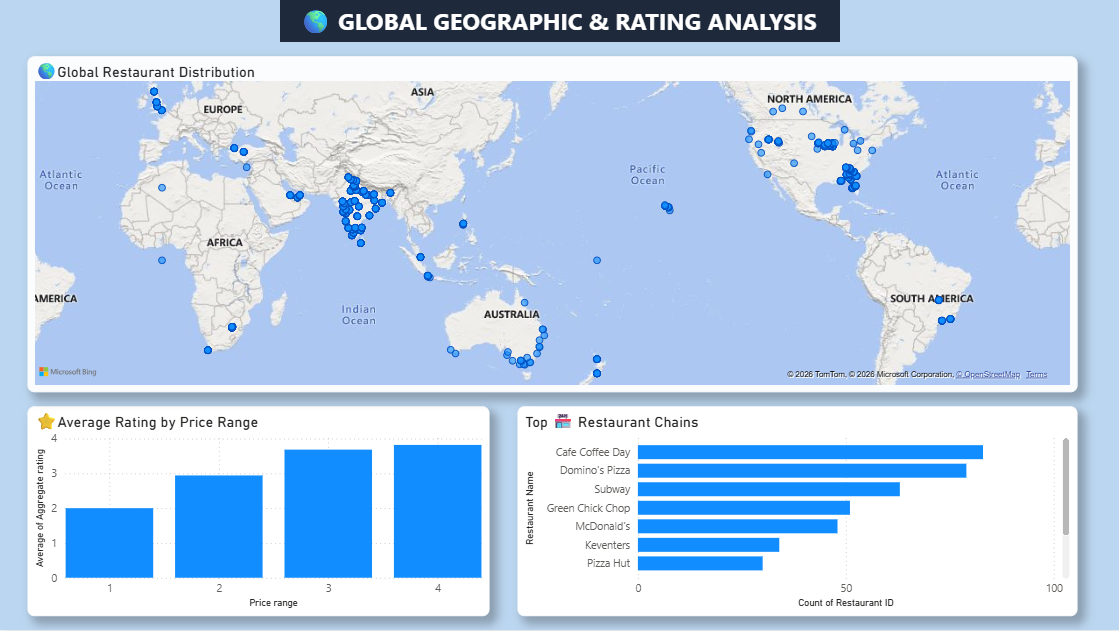

The dashboard page shown, as its layout file describes it:
{"tool":"powerbi","page":{"name":"Geographic & Ratings Analysis","canvas":[1280,720],"ordinal":1},"visuals":[{"type":"clusteredColumnChart","title":"⭐Average Rating by Price Range","fields":{"Category":["Dataset.Price range"],"Y":["Avg(Dataset.Aggregate rating)"]},"box":[32,464,528,240],"z":0},{"type":"map","title":"🌎Global Restaurant Distribution","fields":{"Y":["Dataset.Latitude"],"X":["Dataset.Longitude"]},"box":[32,64,1200,384],"z":1000},{"type":"clusteredBarChart","title":"Top 🏪 Restaurant Chains","fields":{"Category":["Dataset.Restaurant Name"],"Y":["CountNonNull(Dataset.Restaurant ID)"]},"box":[592,464,640,240],"z":2000},{"type":"textbox","box":[320,0,640,48],"z":3000}]}

Visuals, with their boxes in screenshot pixels (x1, y1, x2, y2), scaled from the page's 1280x720 canvas onto the 1119x631 screenshot:
"⭐Average Rating by Price Range" clusteredColumnChart: detection(28, 407, 490, 617)
"🌎Global Restaurant Distribution" map: detection(28, 56, 1077, 393)
"Top 🏪 Restaurant Chains" clusteredBarChart: detection(518, 407, 1077, 617)
textbox: detection(280, 0, 839, 42)
